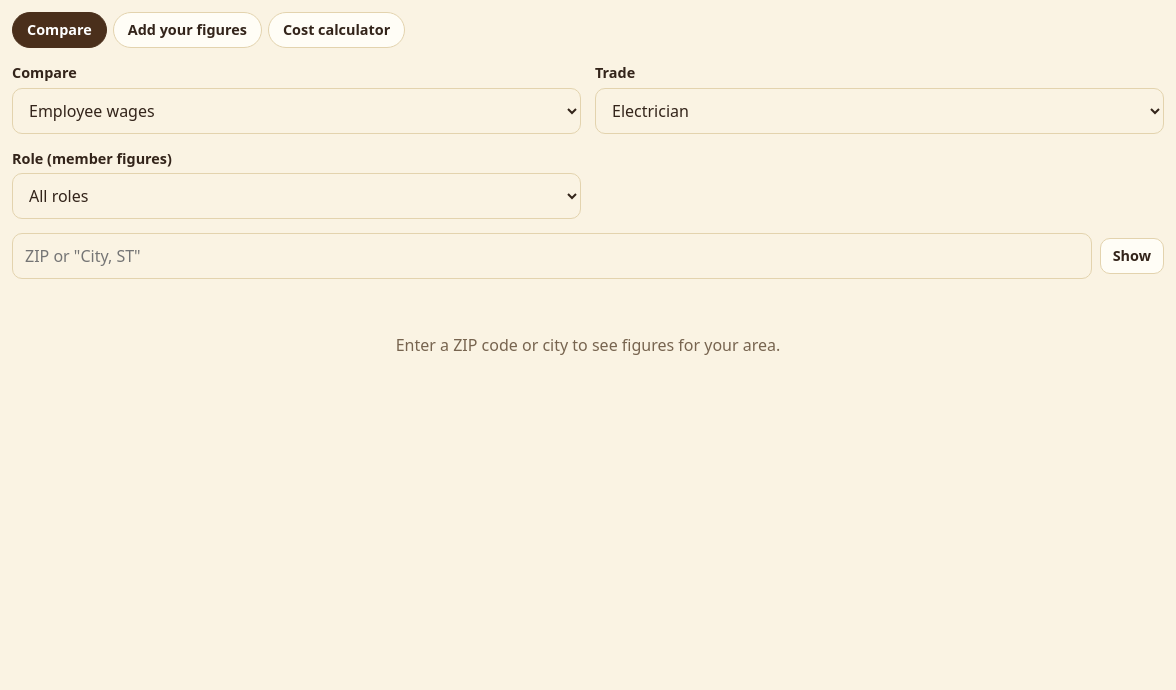
Pay & rates › shows member ranges with sample size, source and the informational note once published
Type "78701" into the field named "ZIP or City, ST". click: (552, 256)
box: left=12, top=233, right=1092, bottom=279
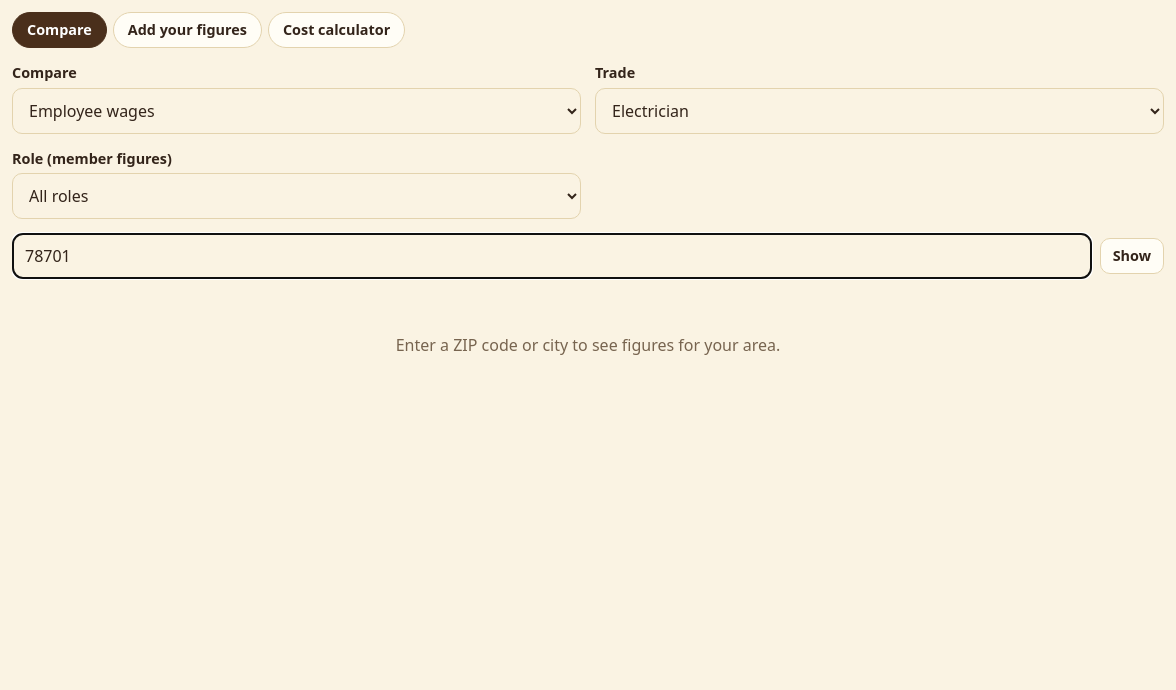
Click the button "Show". click: click(1132, 256)
box: left=1100, top=238, right=1164, bottom=274
(page scrolled)
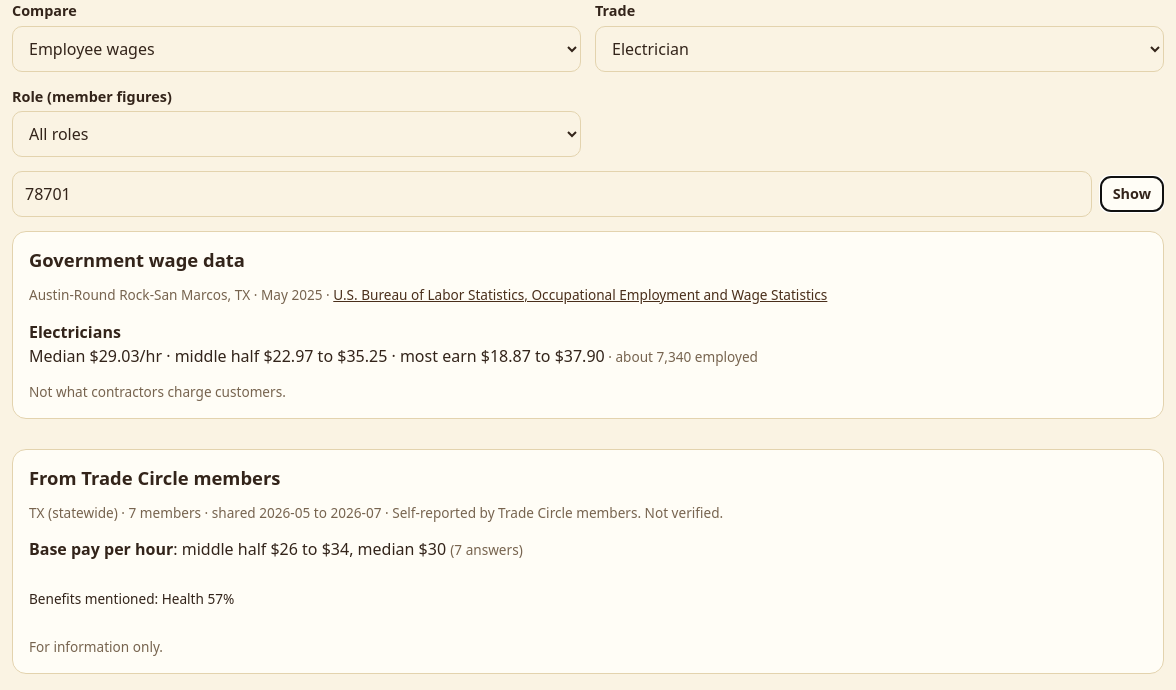
Expected: the text "7 members · shared 2026-05 to 2026-07 · Self-reported" is shown, left=29, top=503, right=723, bottom=522
Expected: the list item "middle half $26 to $34, median $30" is shown, left=29, top=538, right=523, bottom=560
Expected: the text "For information only." is shown, left=29, top=637, right=163, bottom=656
